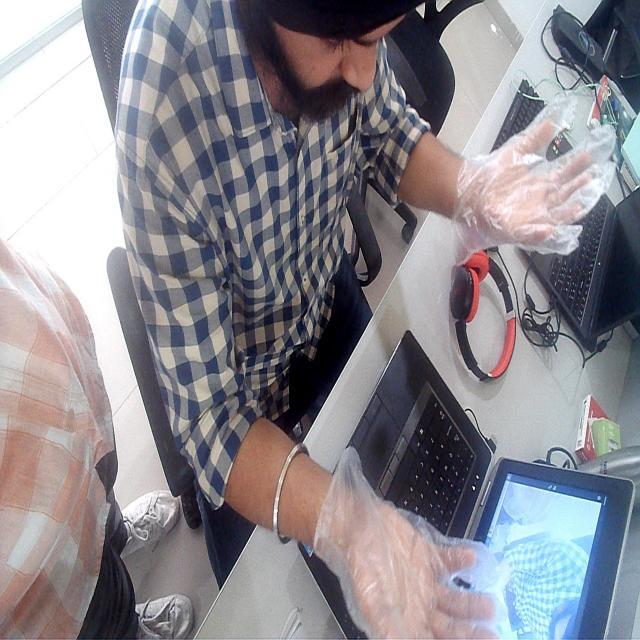with_gloves: (306, 470, 525, 640), (432, 90, 597, 268), (408, 538, 412, 544)
